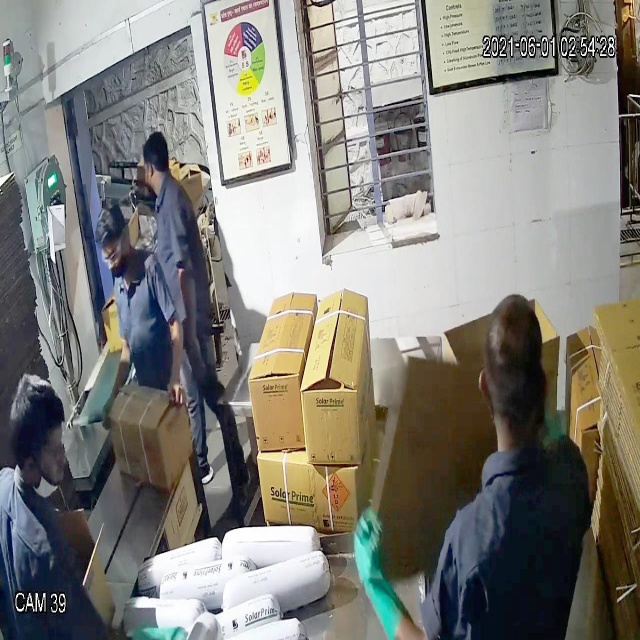Gafas: (96, 230, 133, 271)
